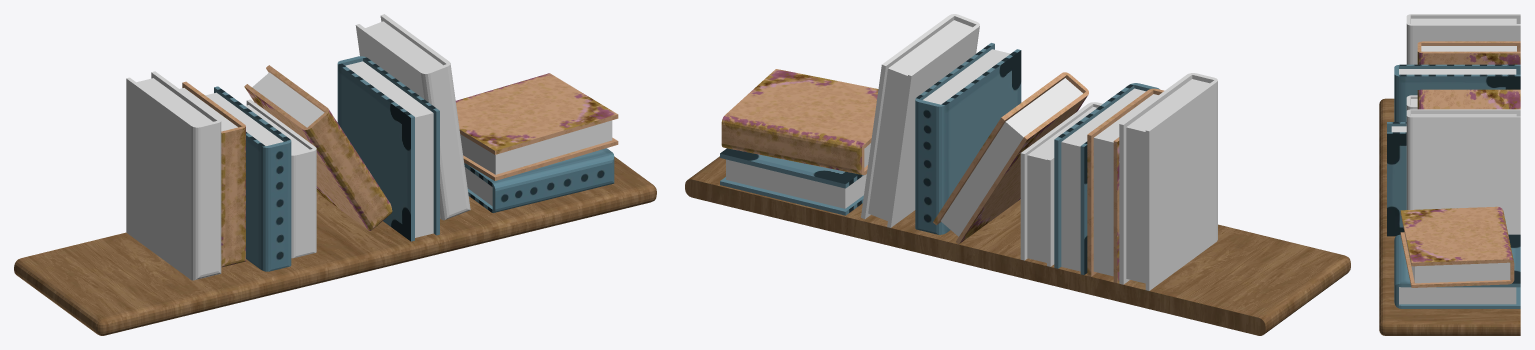
Rendered from libros_y_repisa.glb.
3 views of the same model, side by side, from view 1: azimuth 30°, elevation 25°; view 2: azimuth 150°, elevation 25°; view 3: azimuth 270°, elevation 25° (orthographic). The views are drawn at different scales.
Visible parts, largest first — view 1: Cube.013; view 2: Cube.013; view 3: Cube.013.
Boxes of the visible parts, x1,y1,x2,y2 form: Cube.013: (14,14,656,335); Cube.013: (685,14,1350,335); Cube.013: (1379,14,1520,335).
Size of the model in its own units: 5.81 by 1.72 by 1.53.
Materials: 11 (7 with a texture image).
